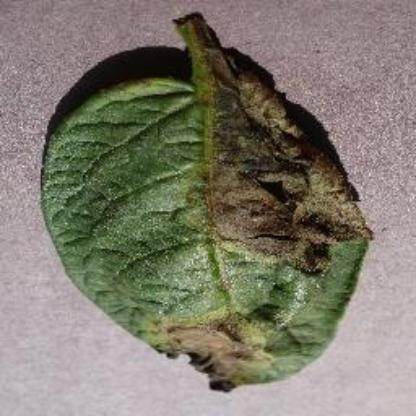Late-Blight: (31, 12, 387, 400)
